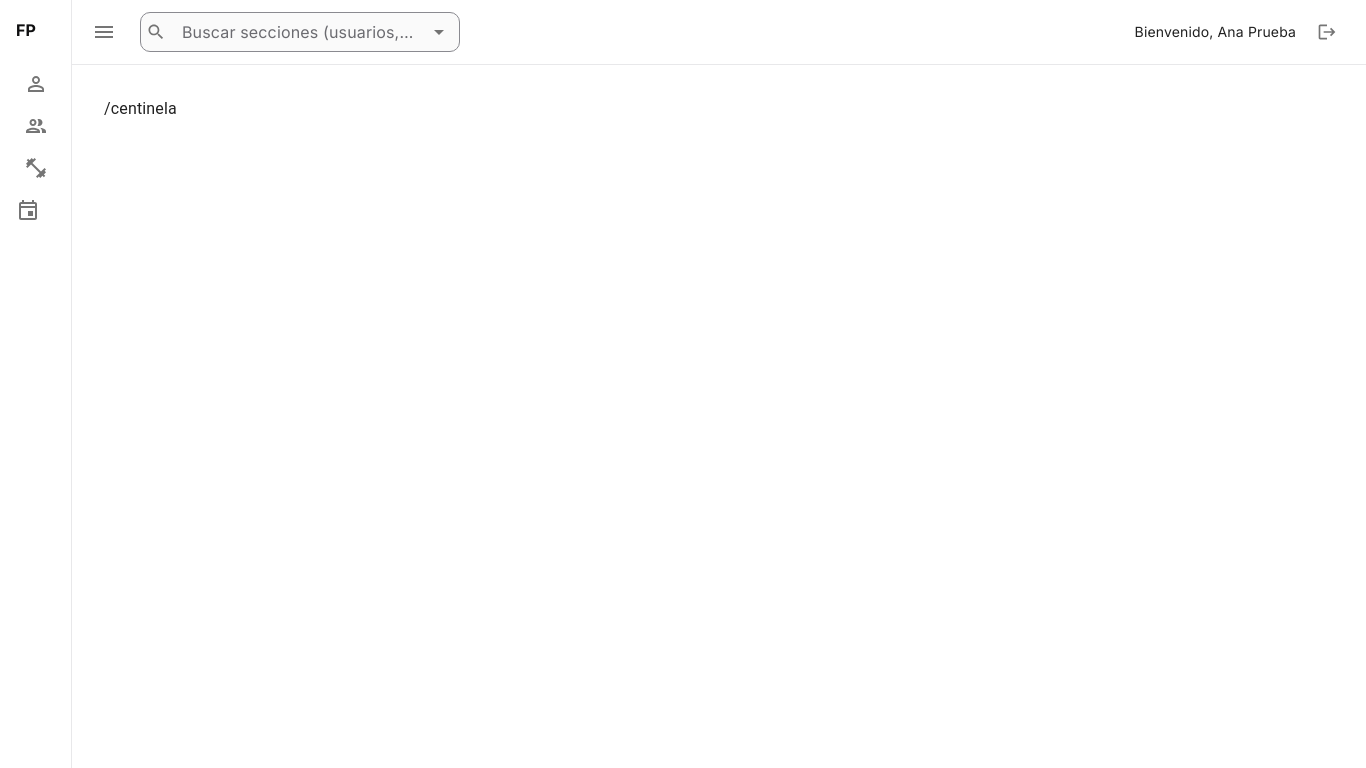
Test: PERSONAL preserva orden, destinos y comandos de su rol
Click the button named "Abrir navegación" at (104, 32), box [84,12,124,52]
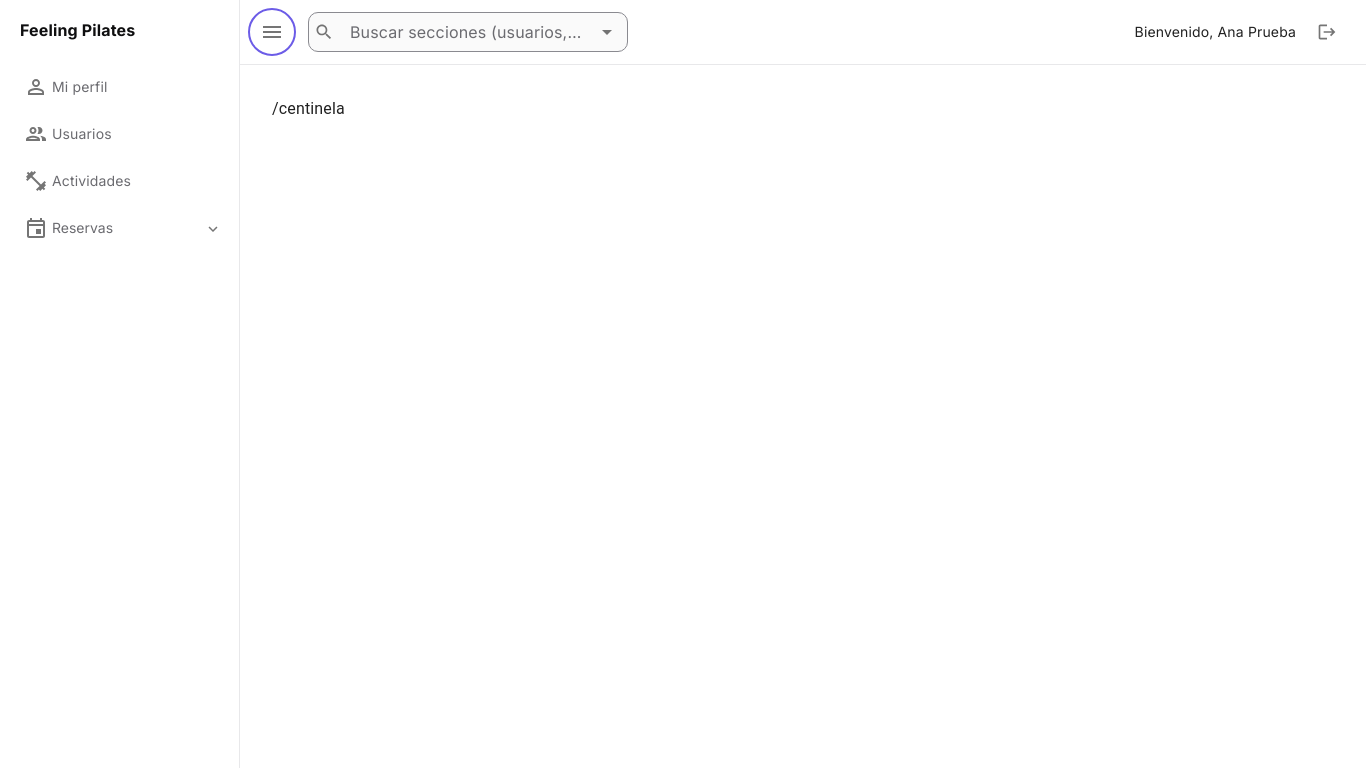
Click the button "Reservas" at (102, 228), box [8,205,195,250]
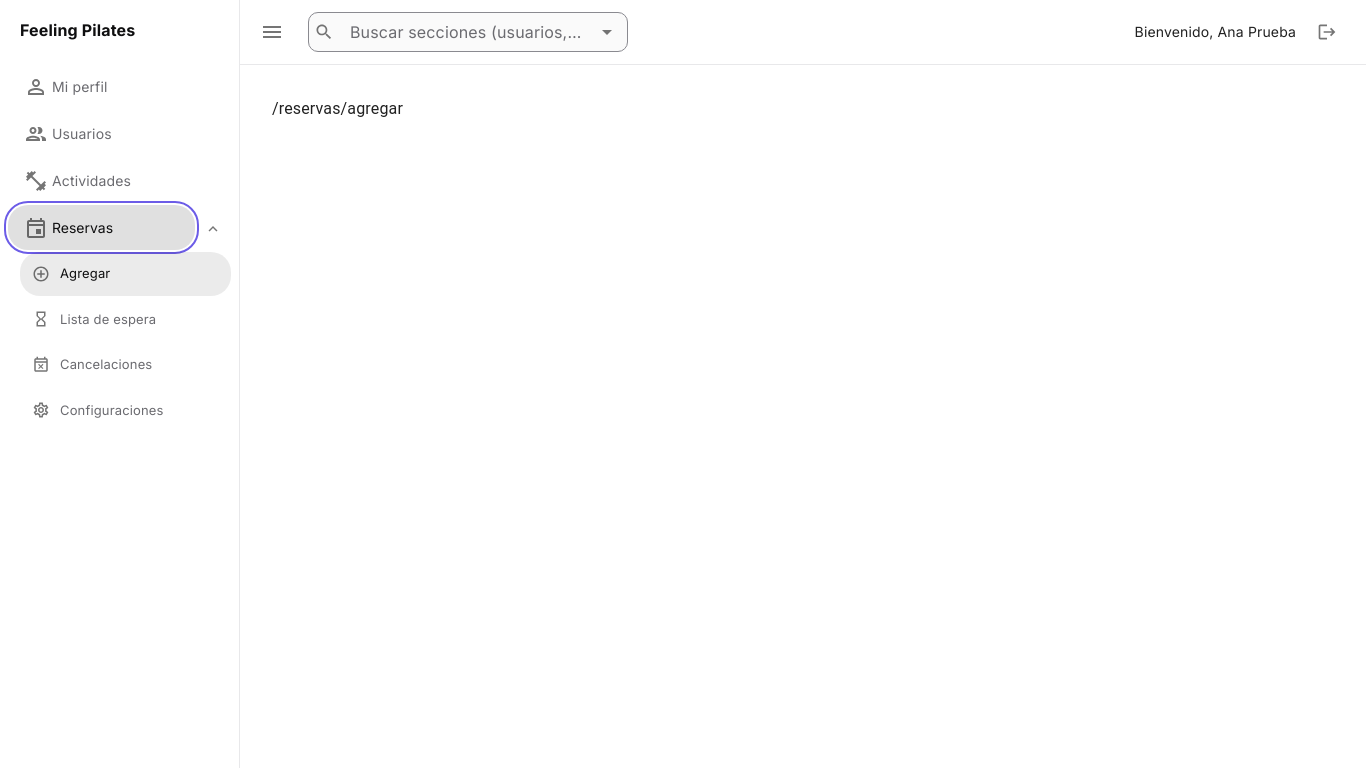
Expected: the text named "Destino actual" reads "/reservas/agregar", [272,99,403,118]
Click the dropdown at (466, 32), box [342,18,589,46]
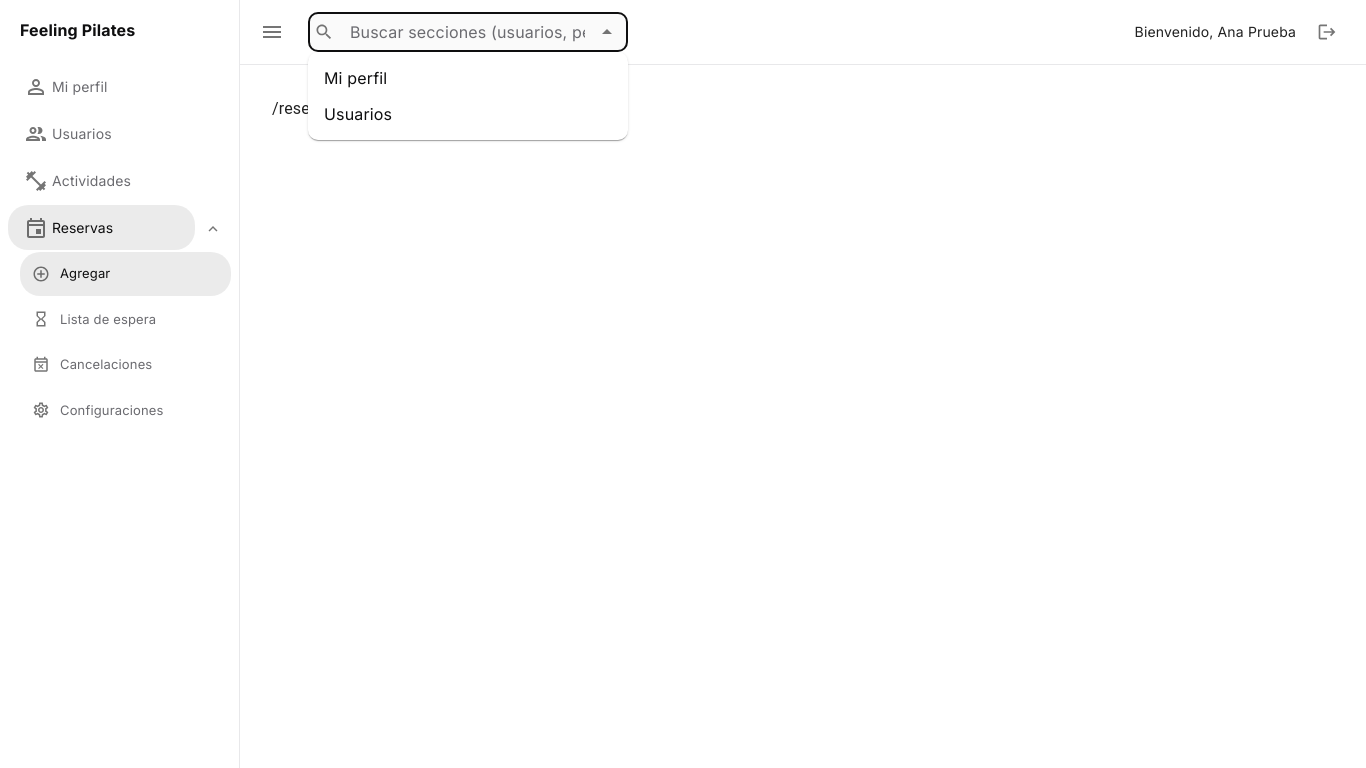
Expected: the options read "Mi perfil", "Usuarios", in this order, [324,68,387,88]; [324,104,392,124]
